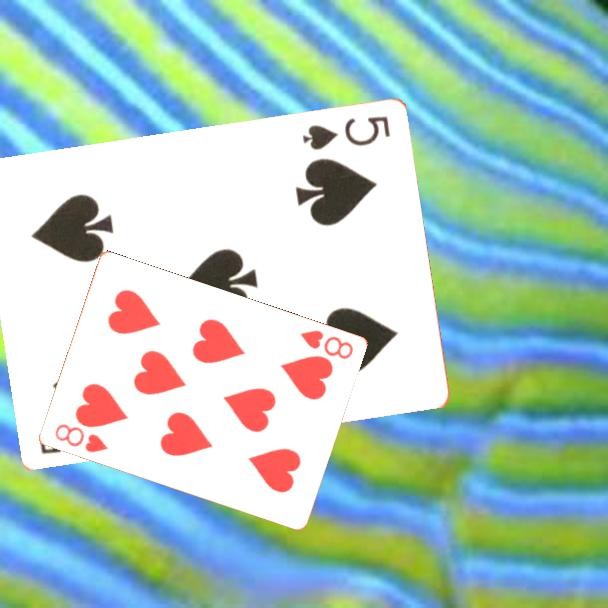h08: (51, 420, 111, 456), (296, 327, 356, 362)
s05: (298, 113, 393, 154)
